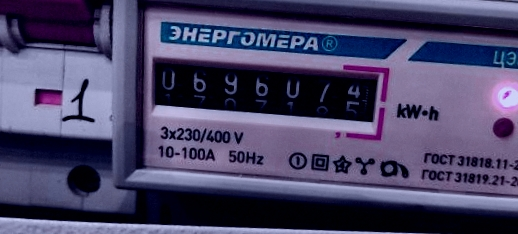0: (158, 64, 178, 90), (283, 72, 302, 99)
4: (346, 76, 362, 99)
5: (344, 98, 360, 119)
6: (189, 65, 209, 92), (252, 69, 271, 97)
7: (314, 76, 332, 103)
9: (220, 68, 240, 96)
screen: (141, 42, 393, 141)
